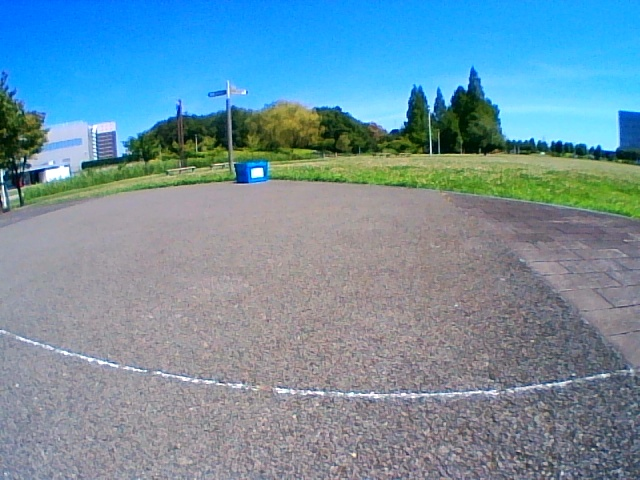blue_box: (235, 160, 266, 183)
tag: (250, 167, 263, 177)
